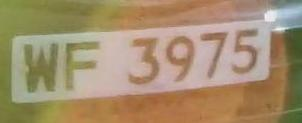3: (123, 32, 163, 89)
5: (228, 24, 261, 77)
7: (195, 26, 230, 82)
9: (160, 29, 198, 85)
F: (58, 36, 108, 98)
W: (14, 38, 61, 104)
